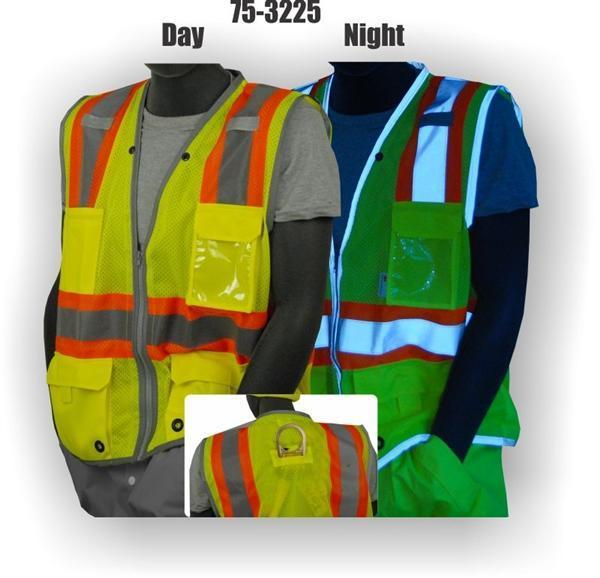vest: (48, 74, 334, 470), (286, 68, 526, 455), (204, 411, 373, 519)
